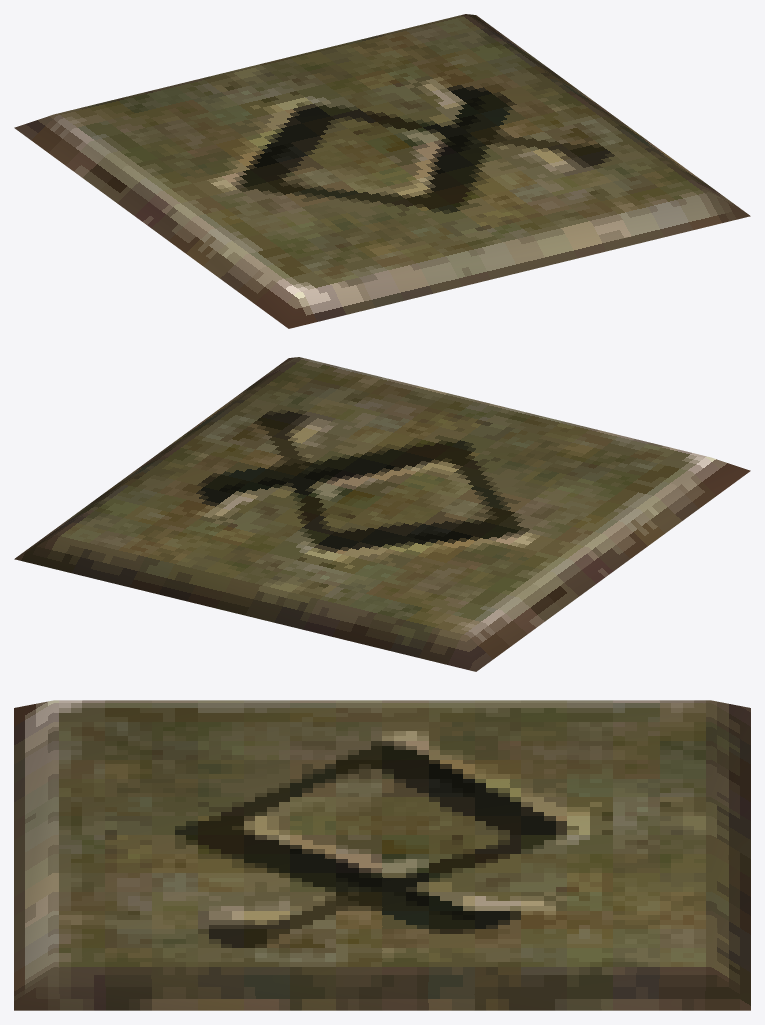
The model's file is EREBOR_RUNE_PZL_EREBOR_PZL_TILE_STATIC01.fbx.
3 renders of one model, top to bottom at view 1: azimuth 30°, elevation 25°; view 2: azimuth 150°, elevation 25°; view 3: azimuth 270°, elevation 25°, orthographic. The views are drawn at different scales.
Parts seen in each view (by area): view 1: EREBOR_RUNE_PZL_EREBOR_PZL_TILE_STATIC01; view 2: EREBOR_RUNE_PZL_EREBOR_PZL_TILE_STATIC01; view 3: EREBOR_RUNE_PZL_EREBOR_PZL_TILE_STATIC01.
Part boxes in pixels (x1,y1,x2,y2): EREBOR_RUNE_PZL_EREBOR_PZL_TILE_STATIC01: (14, 14, 750, 328); EREBOR_RUNE_PZL_EREBOR_PZL_TILE_STATIC01: (14, 357, 750, 671); EREBOR_RUNE_PZL_EREBOR_PZL_TILE_STATIC01: (14, 700, 750, 1010).
Size of the model in its own units: 9945 by 370 by 10240.
Materials: 1 (1 with a texture image).
